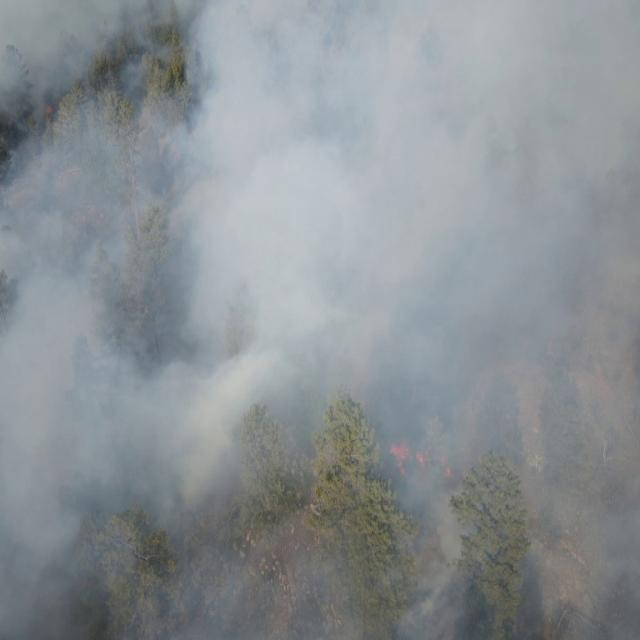fire: (388, 438, 428, 478), (438, 448, 458, 482), (42, 100, 62, 125)
smoke: (2, 0, 640, 640)
